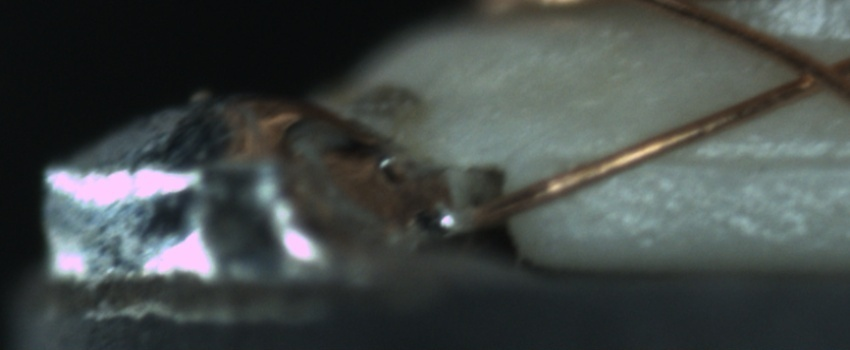CL: (772, 40, 847, 100)
DL: (611, 125, 847, 191)
